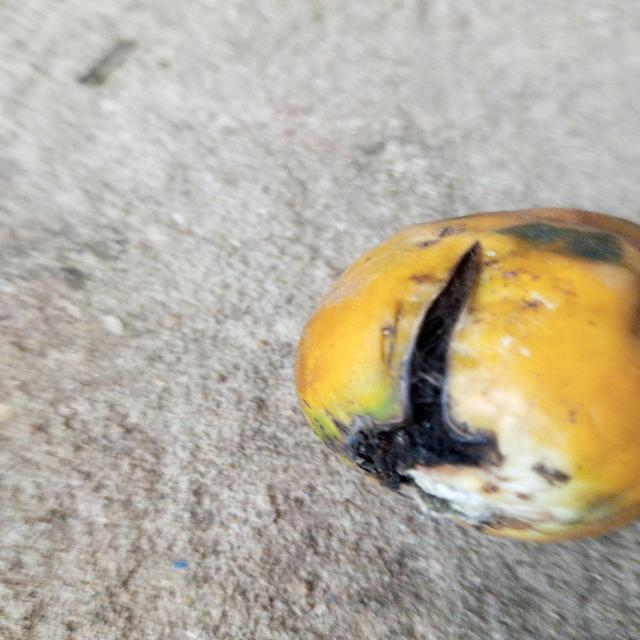damaged: (296, 208, 640, 541)
